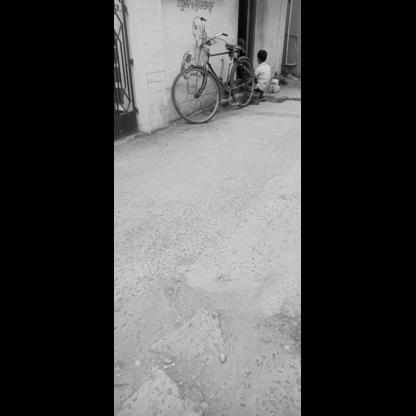Bicycle: (164, 19, 260, 134)
